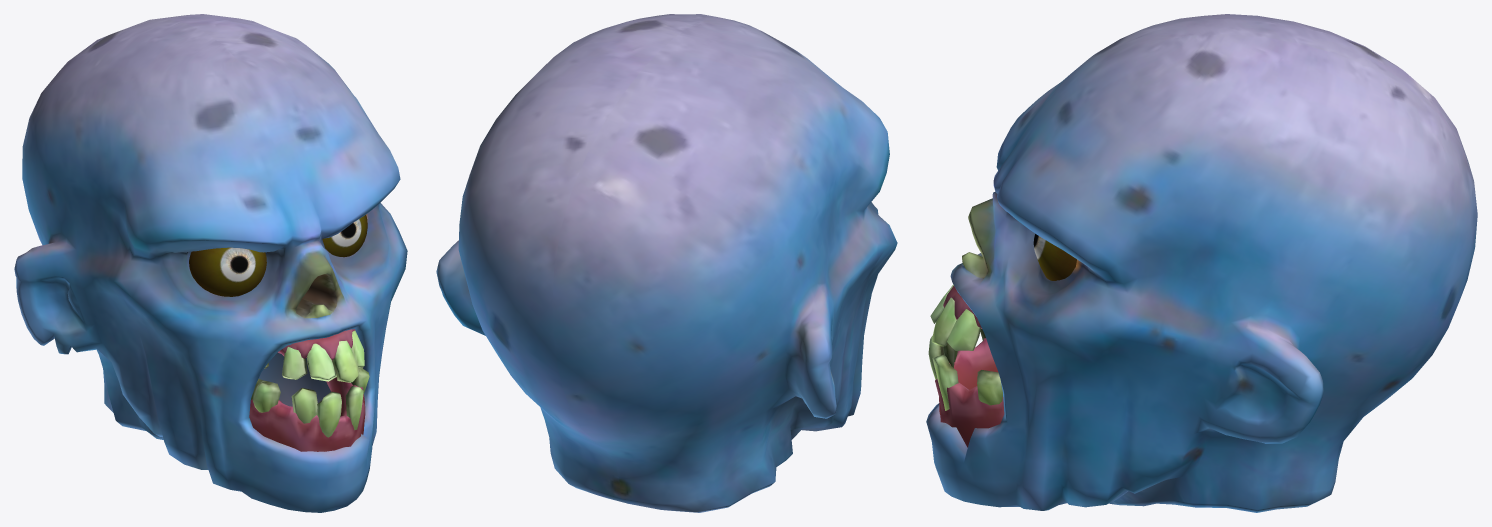
3 views of the same model, side by side, from view 1: azimuth 30°, elevation 25°; view 2: azimuth 150°, elevation 25°; view 3: azimuth 270°, elevation 25° (orthographic). The views are drawn at different scales.
Visible parts, largest first — view 1: SM_Fenkenstrain_Head_LOD0; view 2: SM_Fenkenstrain_Head_LOD0; view 3: SM_Fenkenstrain_Head_LOD0.
Part boxes in pixels (left/top/right/bottom): SM_Fenkenstrain_Head_LOD0: left=14, top=14, right=407, bottom=512; SM_Fenkenstrain_Head_LOD0: left=436, top=14, right=897, bottom=512; SM_Fenkenstrain_Head_LOD0: left=926, top=14, right=1477, bottom=512.
Size of the model in its own units: 0.233 by 0.2548 by 0.2822.
Materials: 2 (2 with a texture image).
